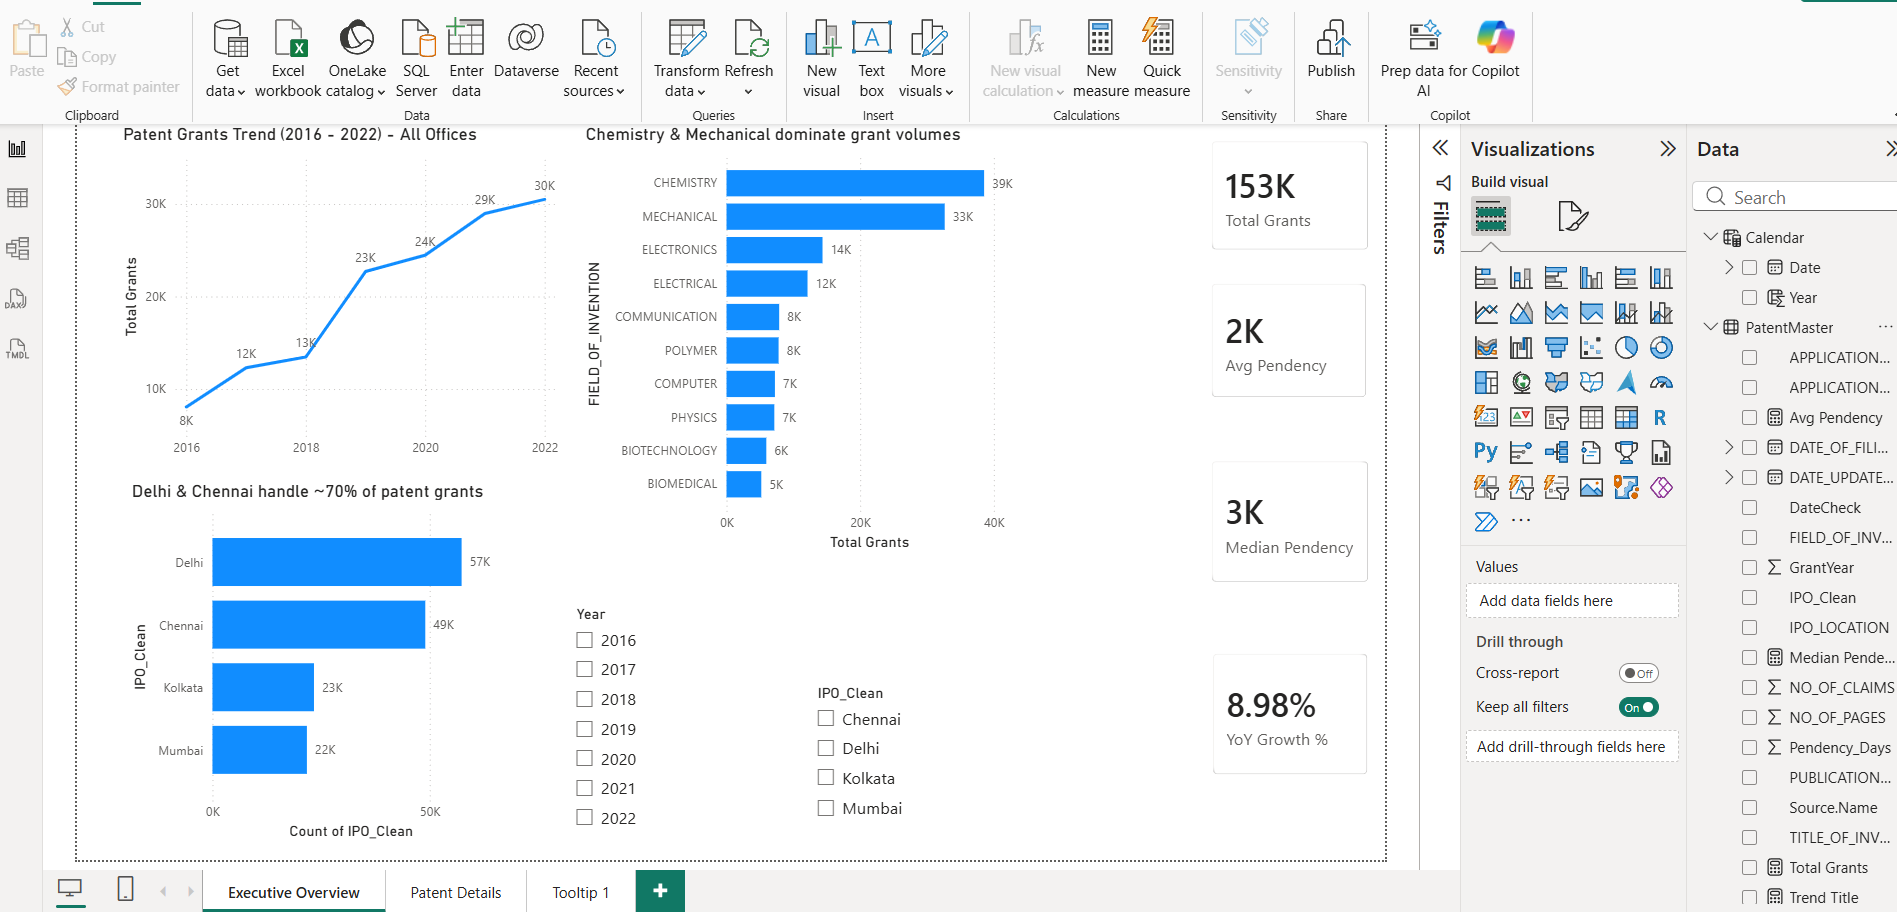

What the dashboard file says about the page in this screenshot:
{"tool":"powerbi","page":{"name":"Executive Overview","canvas":[1280,720],"ordinal":0},"visuals":[{"type":"lineChart","fields":{"Category":["Calendar.Year"],"Y":["PatentMaster.Total Grants"]},"box":[40.4,0,435.3,348.5],"z":0},{"type":"clusteredBarChart","title":"Delhi & Chennai handle ~70% of patent grants","fields":{"Category":["PatentMaster.IPO_Clean"],"Y":["CountNonNull(PatentMaster.IPO_Clean)"]},"box":[49.4,348.5,370.5,356.8],"z":1000},{"type":"clusteredBarChart","title":"Chemistry & Mechanical dominate grant volumes","fields":{"Category":["PatentMaster.FIELD_OF_INVENTION"],"Y":["PatentMaster.Total Grants"]},"box":[492.8,0,437.8,421.9],"z":2000},{"type":"slicer","fields":{"Values":["Calendar.Year"]},"box":[475.7,465.9,144.3,239.7],"z":3000},{"type":"slicer","fields":{"Values":["PatentMaster.IPO_Clean"]},"box":[711.7,542.9,160.2,150.4],"z":4000},{"type":"cardVisual","fields":{"Data":["PatentMaster.Total Grants"]},"box":[1093.2,0,187.1,140.6],"z":5000},{"type":"cardVisual","fields":{"Data":["PatentMaster.Avg Pendency"]},"box":[1093.2,139.4,185.9,145.5],"z":6000},{"type":"cardVisual","fields":{"Data":["PatentMaster.Median Pendency"]},"box":[1093.2,313,187.1,152.9],"z":7000},{"type":"cardVisual","fields":{"Data":["PatentMaster.YoY Growth %"]},"box":[1094.4,501.4,185.9,152.9],"z":8000}]}

Visuals, with their boxes on the page's 1280x720 design canvas (x1, y1, x2, y2). These are canvas units, not pixel positions in the 1897x912 screenshot, which may show the page scaled, cropped or inside an application window:
lineChart - Calendar.Year x PatentMaster.Total Grants: <region>40, 0, 476, 348</region>
"Delhi & Chennai handle ~70% of patent grants" clusteredBarChart: <region>49, 348, 420, 705</region>
"Chemistry & Mechanical dominate grant volumes" clusteredBarChart: <region>493, 0, 931, 422</region>
slicer - Calendar.Year: <region>476, 466, 620, 706</region>
slicer - PatentMaster.IPO_Clean: <region>712, 543, 872, 693</region>
cardVisual - PatentMaster.Total Grants: <region>1093, 0, 1280, 141</region>
cardVisual - PatentMaster.Avg Pendency: <region>1093, 139, 1279, 285</region>
cardVisual - PatentMaster.Median Pendency: <region>1093, 313, 1280, 466</region>
cardVisual - PatentMaster.YoY Growth %: <region>1094, 501, 1280, 654</region>
